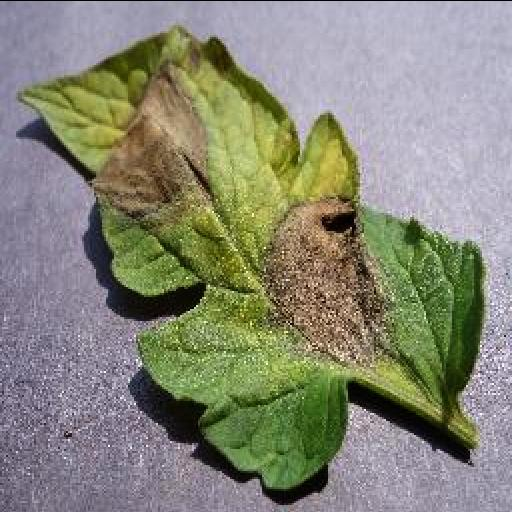disease_tomato: (9, 28, 487, 492)
